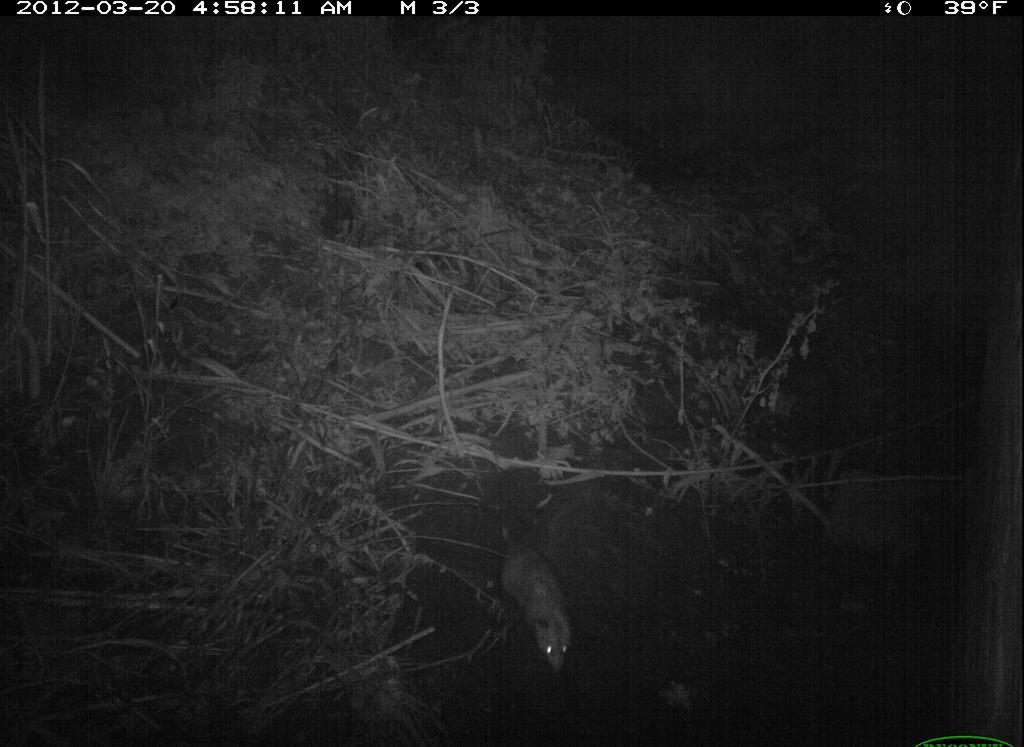opossum: (468, 509, 593, 685)
